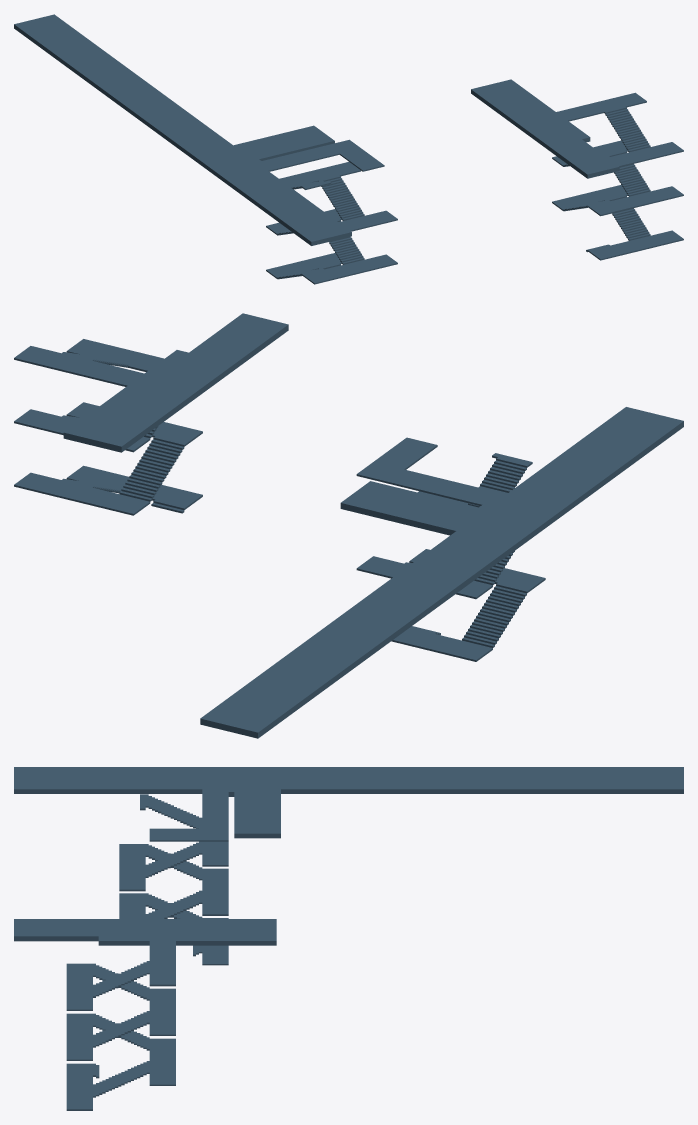
Rendered from v02-04-06-deck.glb.
The picture shows the model from 3 angles, top to bottom: view 1: azimuth 30°, elevation 25°; view 2: azimuth 150°, elevation 25°; view 3: azimuth 270°, elevation 25°; orthographic projection. The views are drawn at different scales.
Visible parts, largest first — view 1: v02-04-06-deck; view 2: v02-04-06-deck; view 3: v02-04-06-deck.
Boxes of the visible parts, bbox=[...] form: v02-04-06-deck: bbox=[14, 14, 683, 284]; v02-04-06-deck: bbox=[14, 313, 683, 738]; v02-04-06-deck: bbox=[14, 767, 683, 1110].
Size of the model in its own units: 58.8 by 16.08 by 76.5.
